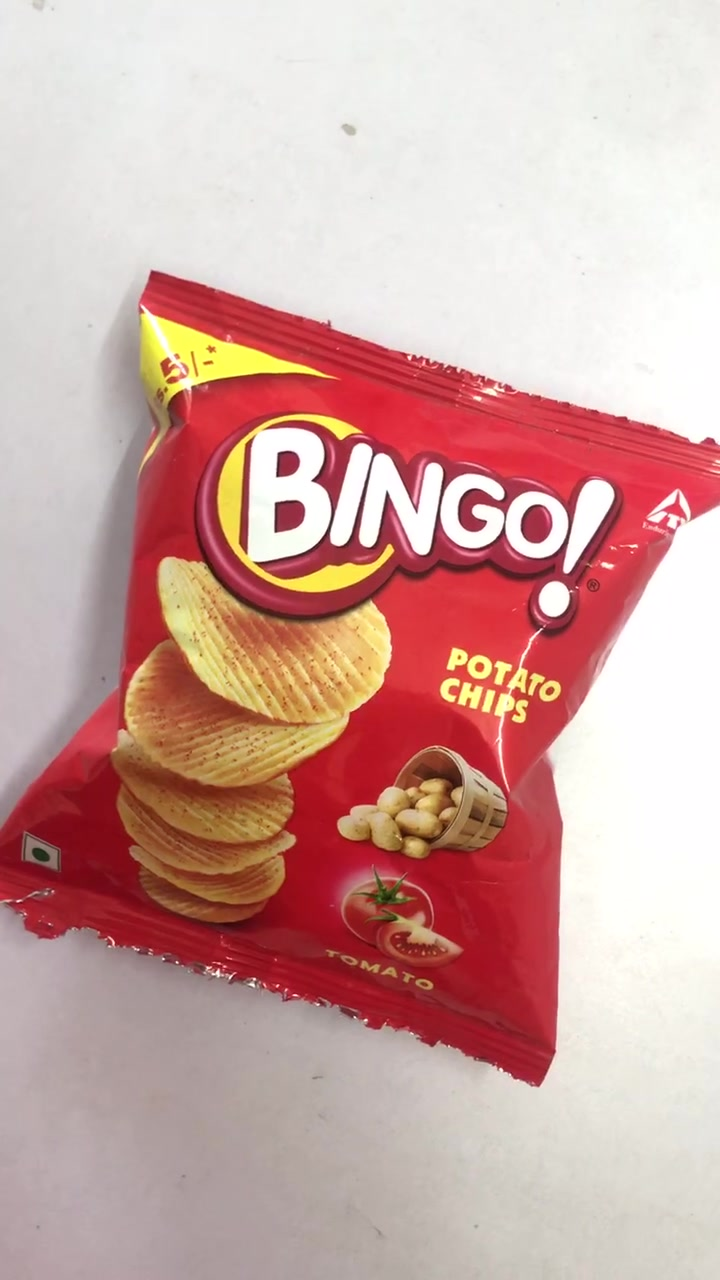Bingo: (5, 271, 720, 1072)
